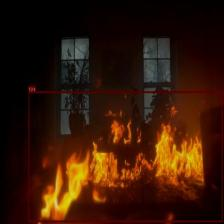fire: (28, 91, 222, 222)
